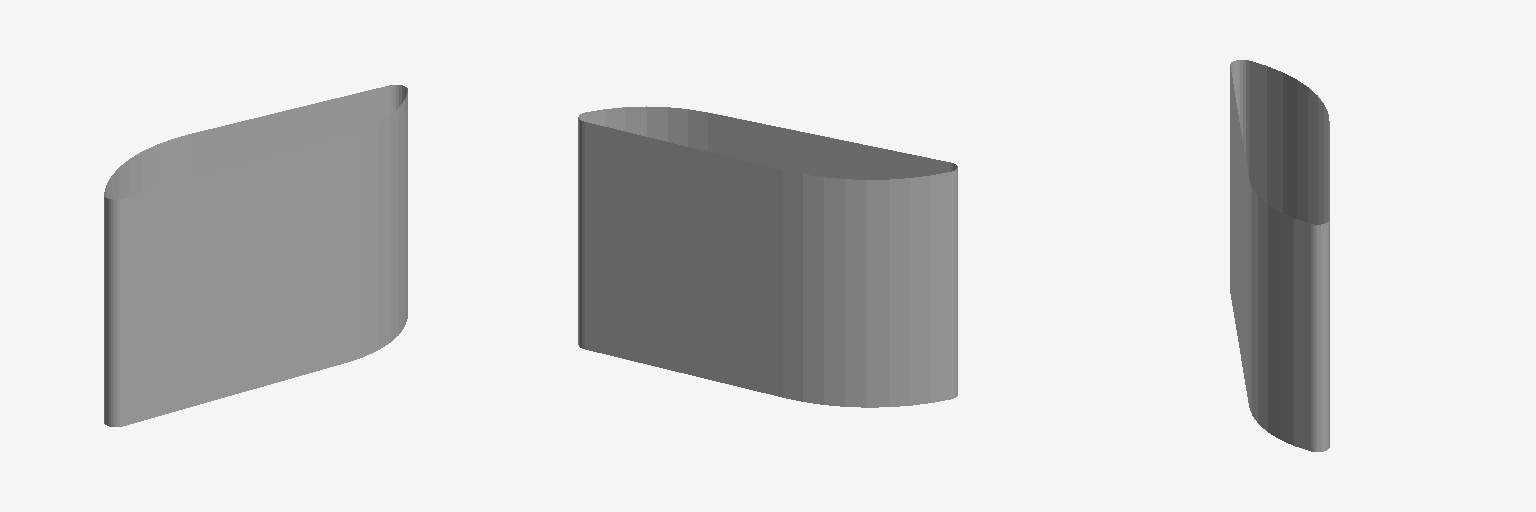
Rendered from torso_l1_5.obj.
3 views of the same model, side by side, from view 1: azimuth 30°, elevation 25°; view 2: azimuth 150°, elevation 25°; view 3: azimuth 270°, elevation 25° (orthographic).
Bounding box in the file's own units: 0.224 × 0.144 × 0.057.